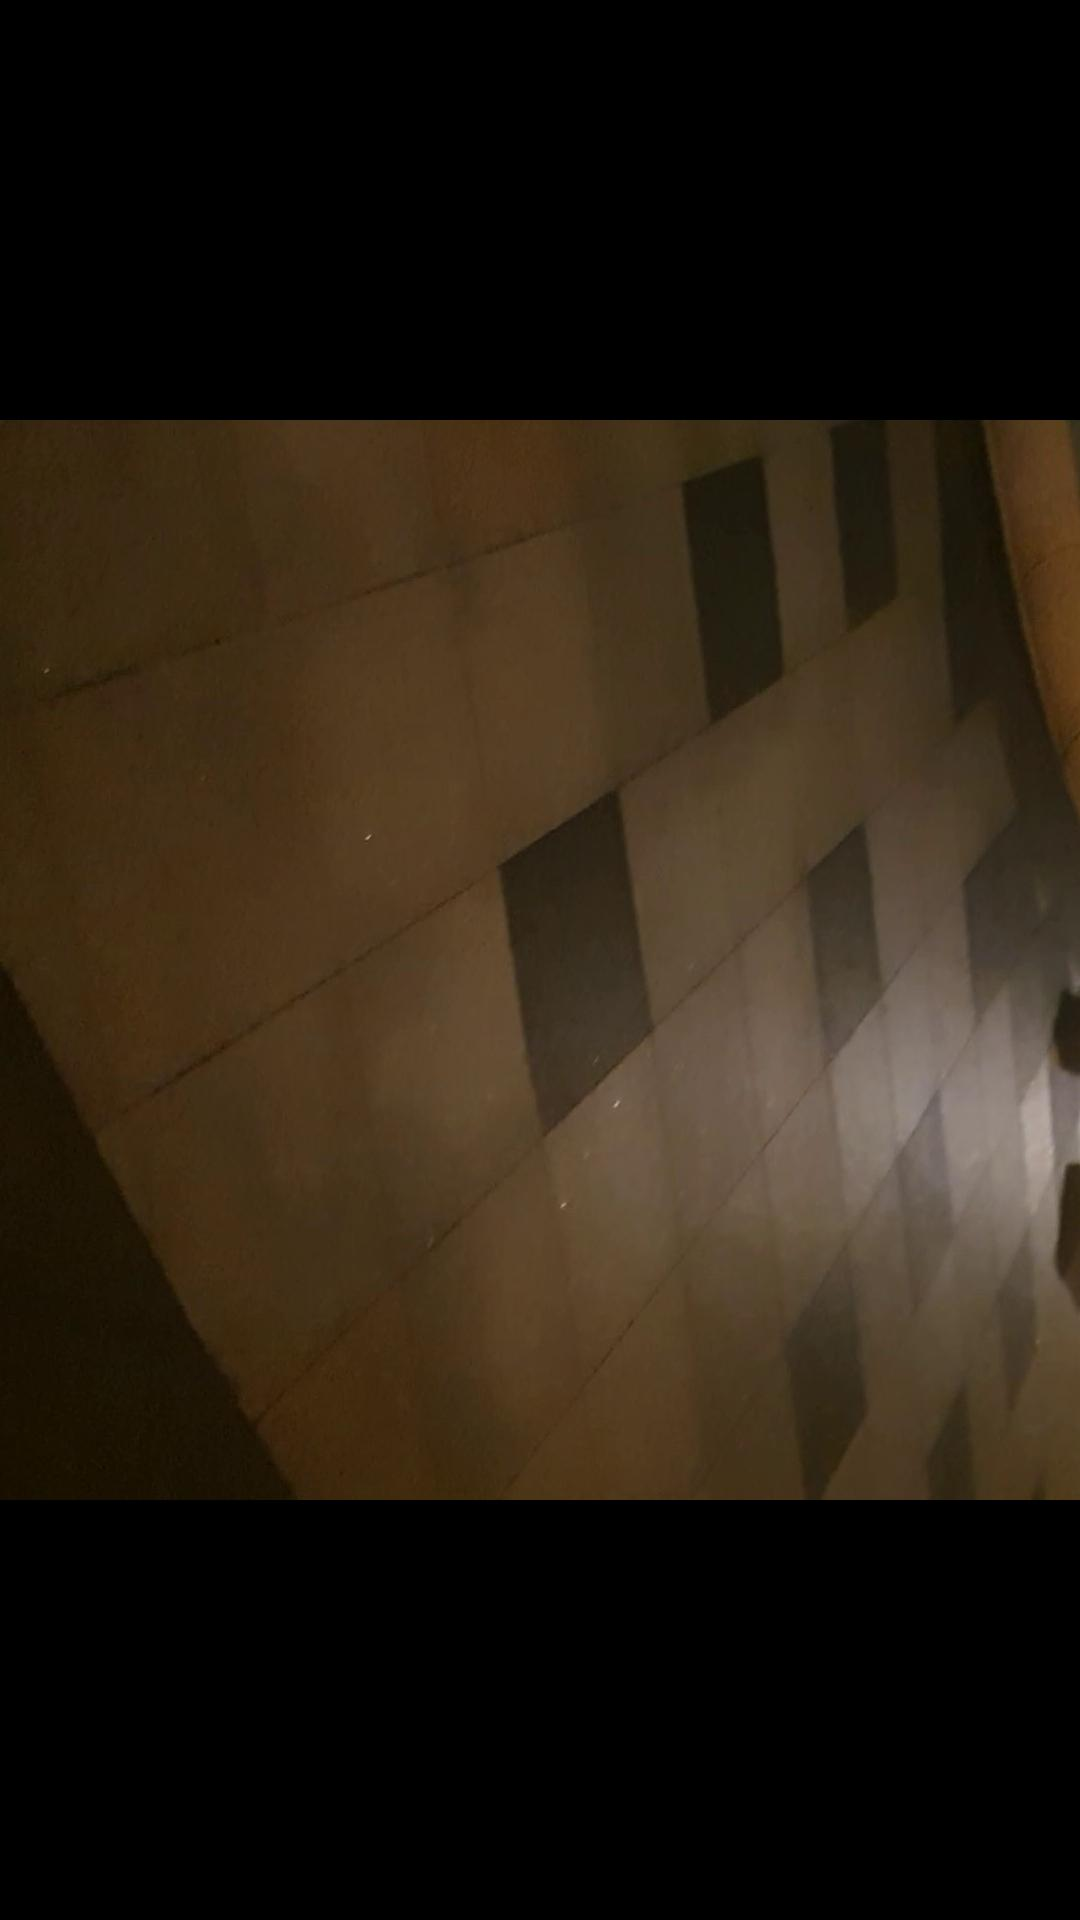Box: (1060, 998, 1080, 1095)
